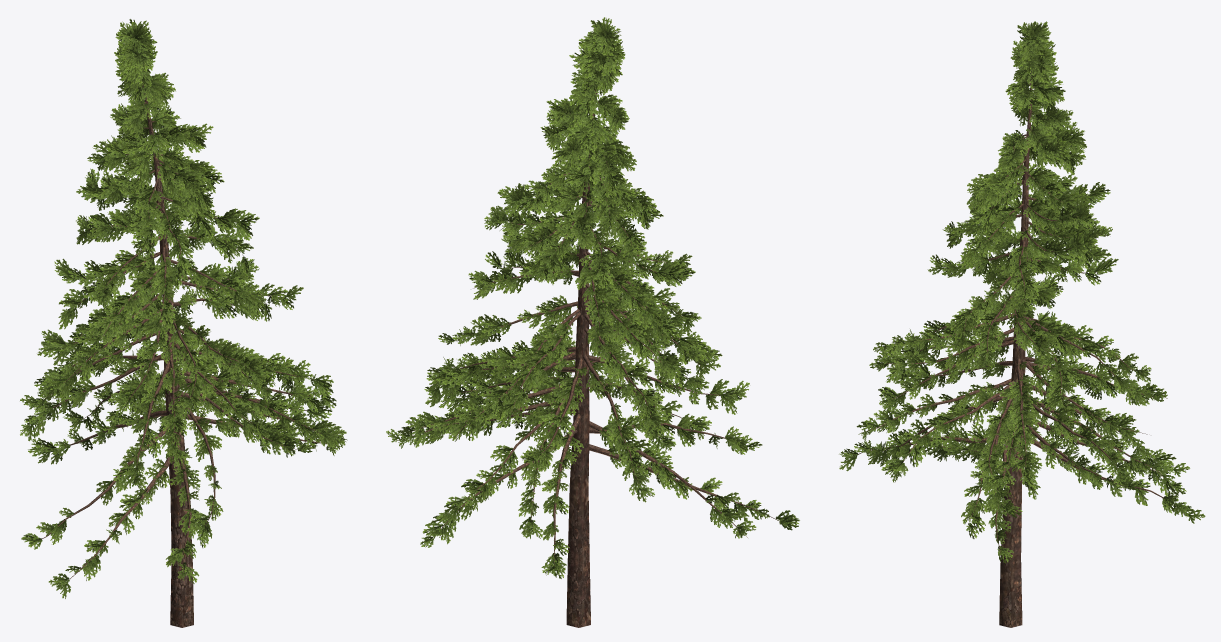
The model's file is tree-pine.glb.
3 renders of one model, left to right at view 1: azimuth 30°, elevation 25°; view 2: azimuth 150°, elevation 25°; view 3: azimuth 270°, elevation 25°, orthographic. The views are drawn at different scales.
Parts seen in each view (by area): view 1: Tree; view 2: Tree; view 3: Tree.
Part boxes in pixels (x1,y1,x2,y2): Tree: (20, 19, 347, 627); Tree: (386, 17, 799, 627); Tree: (839, 21, 1205, 627).
Size of the model in its own units: 30.04 by 51.32 by 29.62.
2 materials, 2 textured.
